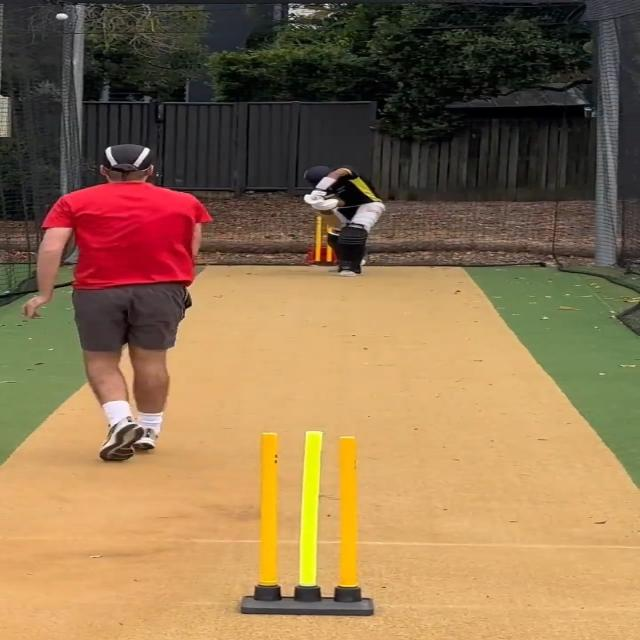ball: (55, 10, 71, 21)
stump: (237, 429, 377, 616)
